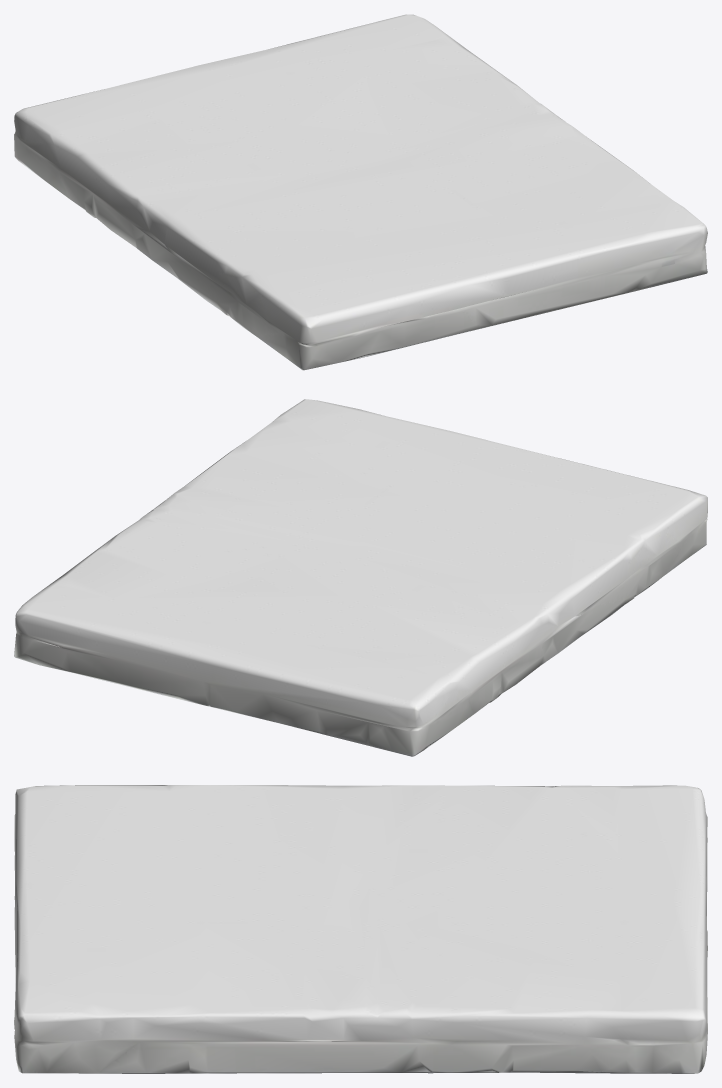
File: 60481647-mini.glb
3 renders of one model, top to bottom at view 1: azimuth 30°, elevation 25°; view 2: azimuth 150°, elevation 25°; view 3: azimuth 270°, elevation 25°, orthographic. The views are drawn at different scales.
Visible parts, largest first — view 1: model; view 2: model; view 3: model.
Part boxes in pixels (x1=…): model: x1=14, y1=14, x2=707, y2=370; model: x1=14, y1=399, x2=707, y2=756; model: x1=14, y1=785, x2=707, y2=1073.
Bounding box in the file's own units: 1.61 × 0.1982 × 2.01.
1 material, 1 textured.
